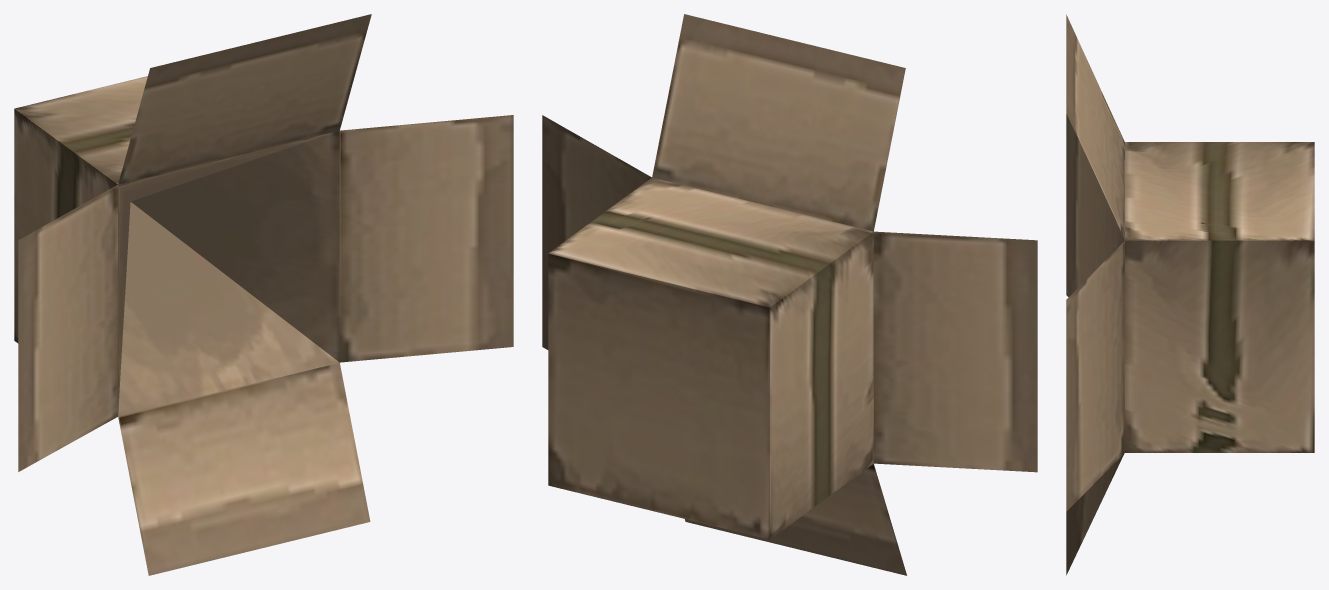
The model's file is prop_cardboardBox.glb.
The picture shows the model from 3 angles, left to right: view 1: azimuth 30°, elevation 25°; view 2: azimuth 150°, elevation 25°; view 3: azimuth 270°, elevation 25°; orthographic projection. The views are drawn at different scales.
Parts seen in each view (by area): view 1: prop_cardboardBox; view 2: prop_cardboardBox; view 3: prop_cardboardBox.
Boxes of the visible parts, x1,y1,x2,y2 form: prop_cardboardBox: (14, 14, 513, 575); prop_cardboardBox: (542, 14, 1037, 575); prop_cardboardBox: (1066, 14, 1314, 575).
Bounding box in the file's own units: 85.74 × 83.91 × 40.74.
1 material, 1 textured.
